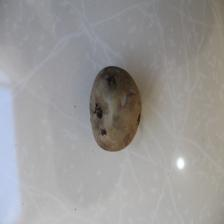Diseased-fungal potato: (88, 65, 142, 153)
